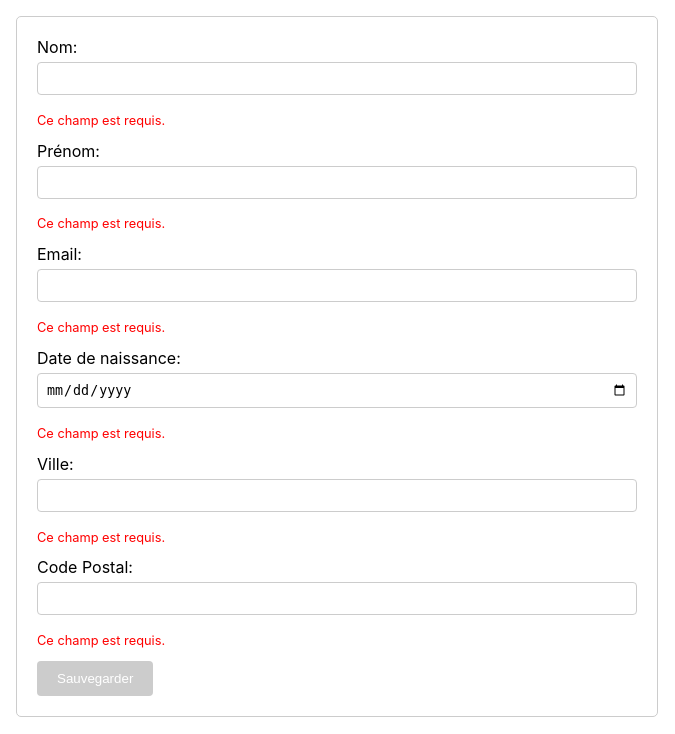
Test: App › tests for the form › nom › should display an error message if the input is invalid tot@
Type "tot@" into the field with test id "inputNom".
click(337, 78); type("tot@")  # box [37, 62, 637, 95]
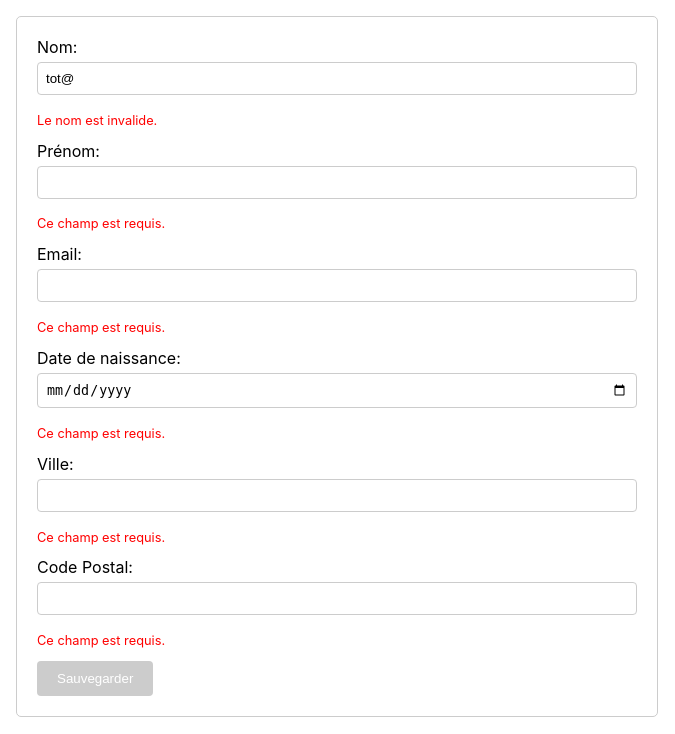
expect the text "Le nom est invalide." is shown: met, box [37, 113, 157, 128]
